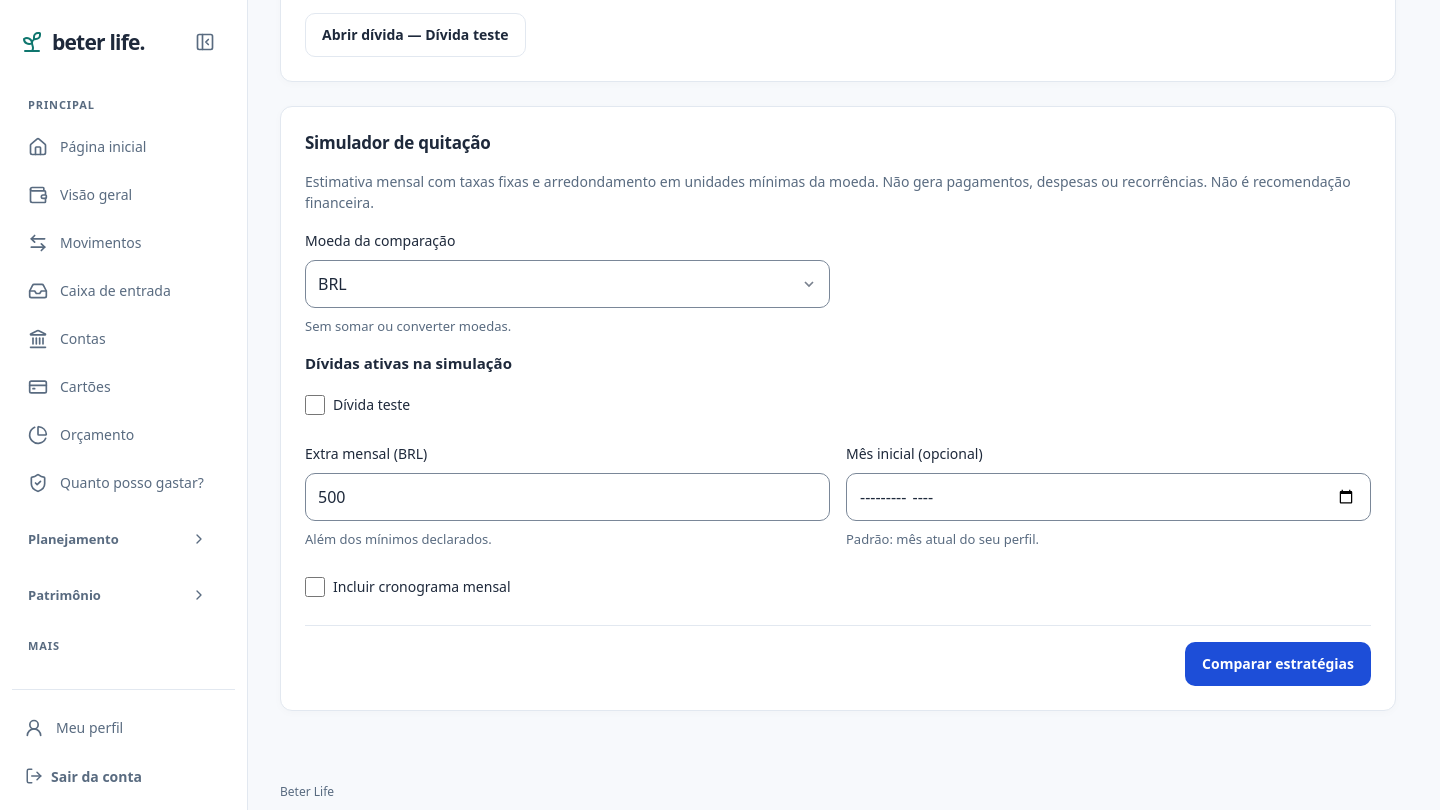
Scenario: debt frontend protected boundary › simulation renders only server results and posts no ledger mutations
This screenshot has width=1440, height=810.
(page scrolled)
Click the checkbox labelled "Dívida teste": (315, 405) [305,395,325,415]
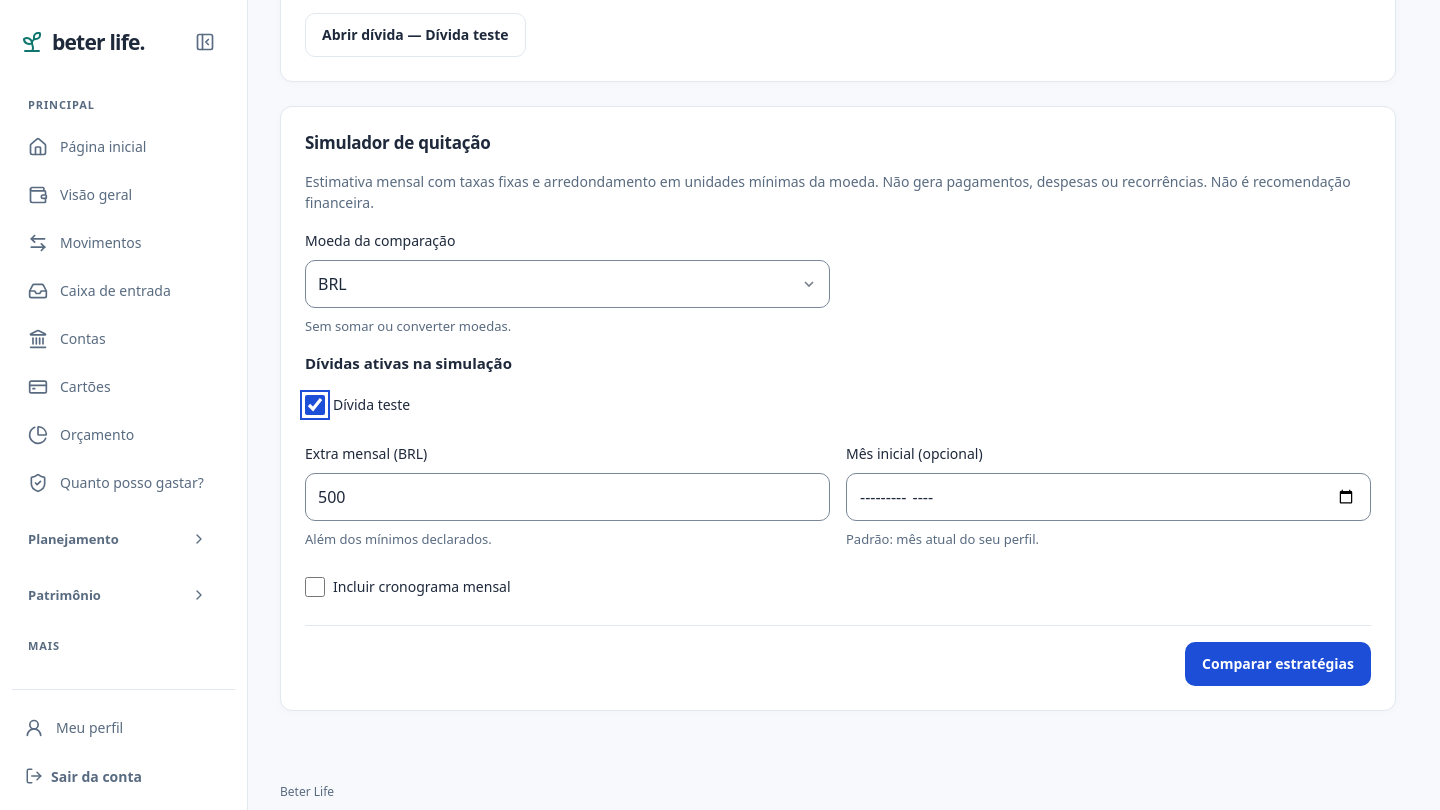
Click the button "Comparar estratégias": (1278, 664) [1185,642,1371,686]
(page scrolled)
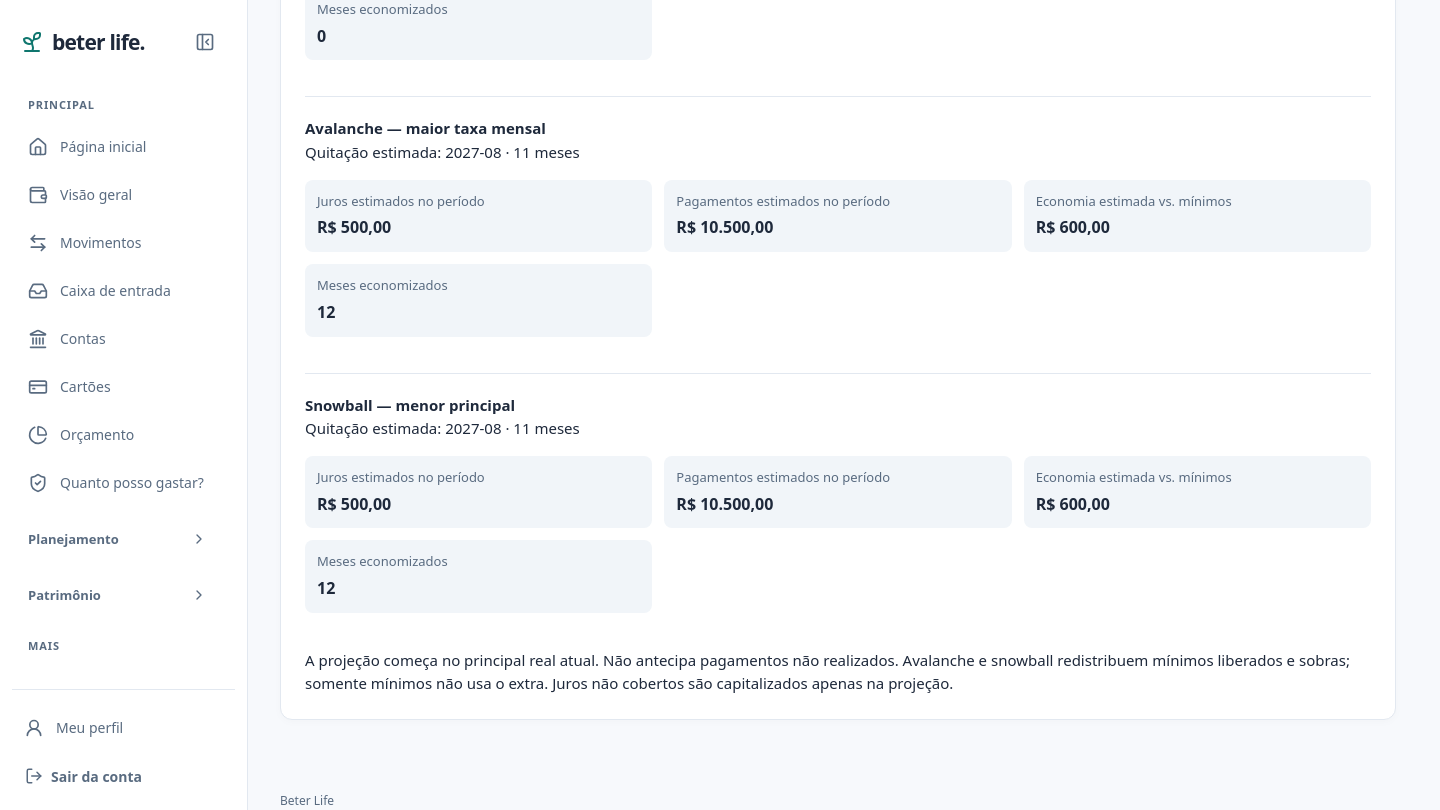
Expected: the heading "Avalanche — maior taxa mensal" is shown, [305,118,546,138]
Expected: the heading "Snowball — menor principal" is shown, [305,394,515,414]
